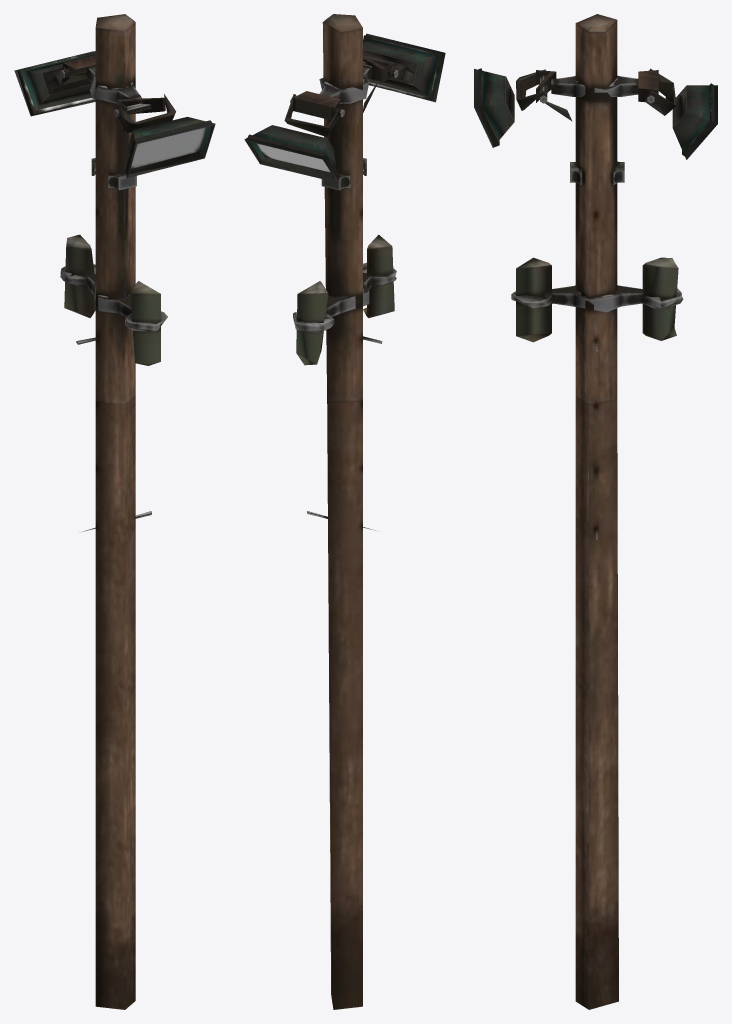
Rendered from city-lamp.lod0.glb.
3 views of the same model, side by side, from view 1: azimuth 30°, elevation 25°; view 2: azimuth 150°, elevation 25°; view 3: azimuth 270°, elevation 25° (orthographic).
Visible parts, largest first — view 1: Cylinder_7__0; view 2: Cylinder_7__0; view 3: Cylinder_7__0.
Part boxes in pixels (x1,y1,x2,y2): Cylinder_7__0: (14, 14, 215, 1009); Cylinder_7__0: (244, 14, 445, 1009); Cylinder_7__0: (474, 14, 717, 1009).
Bounding box in the file's own units: 0.5922 × 7 × 1.58.
1 material, 1 textured.
